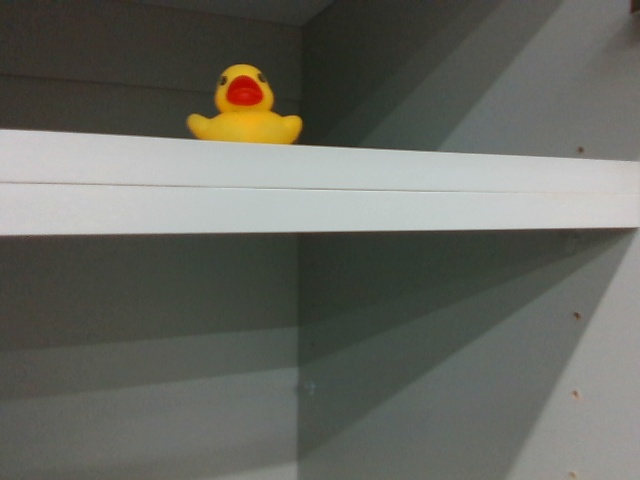duck: (187, 59, 306, 148)
